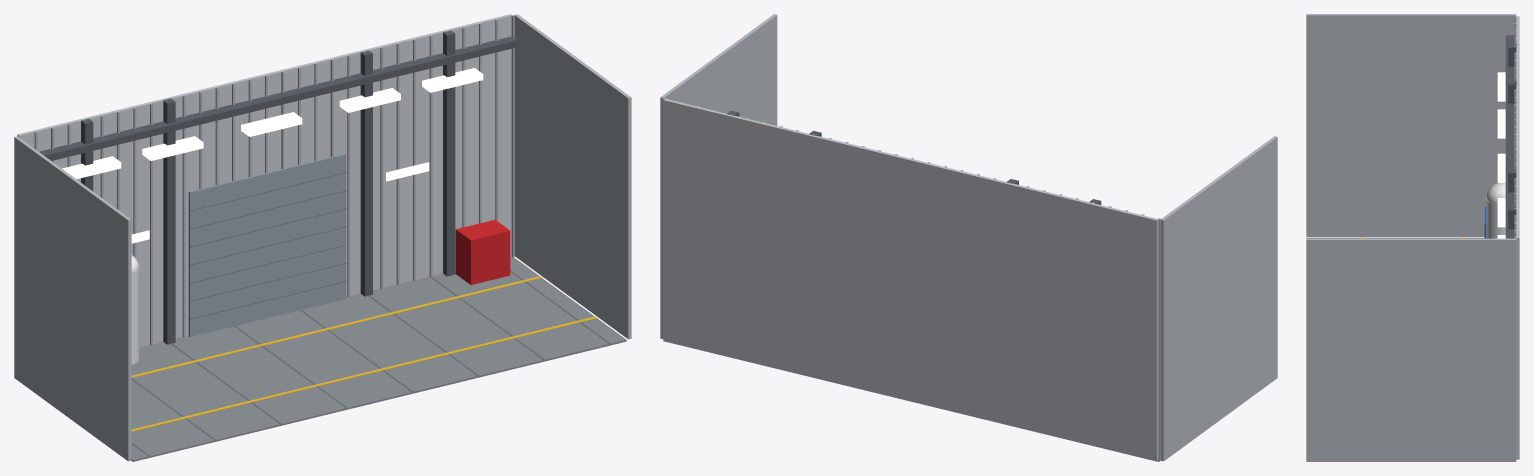
The model's file is room_galpao.glb.
3 renders of one model, left to right at view 1: azimuth 30°, elevation 25°; view 2: azimuth 150°, elevation 25°; view 3: azimuth 270°, elevation 25°, orthographic. The views are drawn at different scales.
Parts seen in each view (by area): view 1: room_galpao; view 2: room_galpao; view 3: room_galpao.
Boxes of the visible parts, x1,y1,x2,y2 form: room_galpao: (14,14,631,461); room_galpao: (660,14,1277,461); room_galpao: (1306,14,1519,461).
Bounding box in the file's own units: 30.6 × 14.1 × 12.2.
